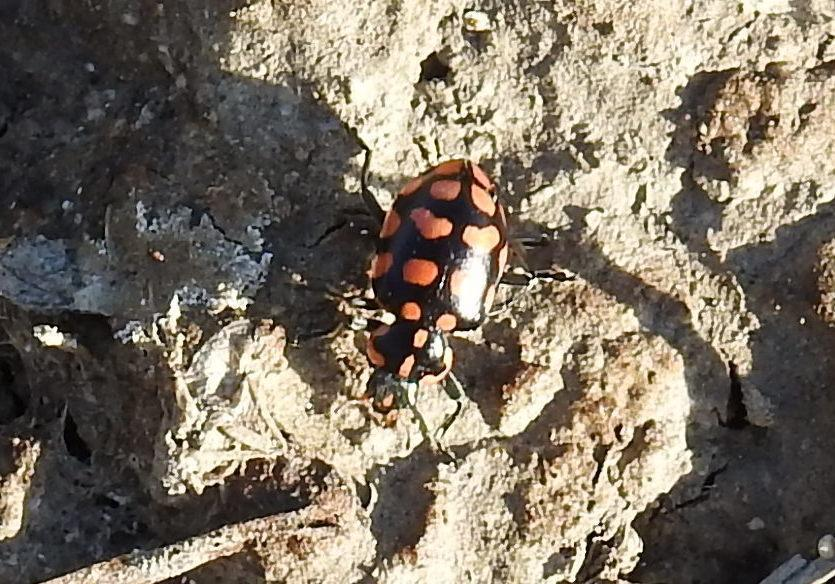ladybug: (298, 119, 581, 473)
